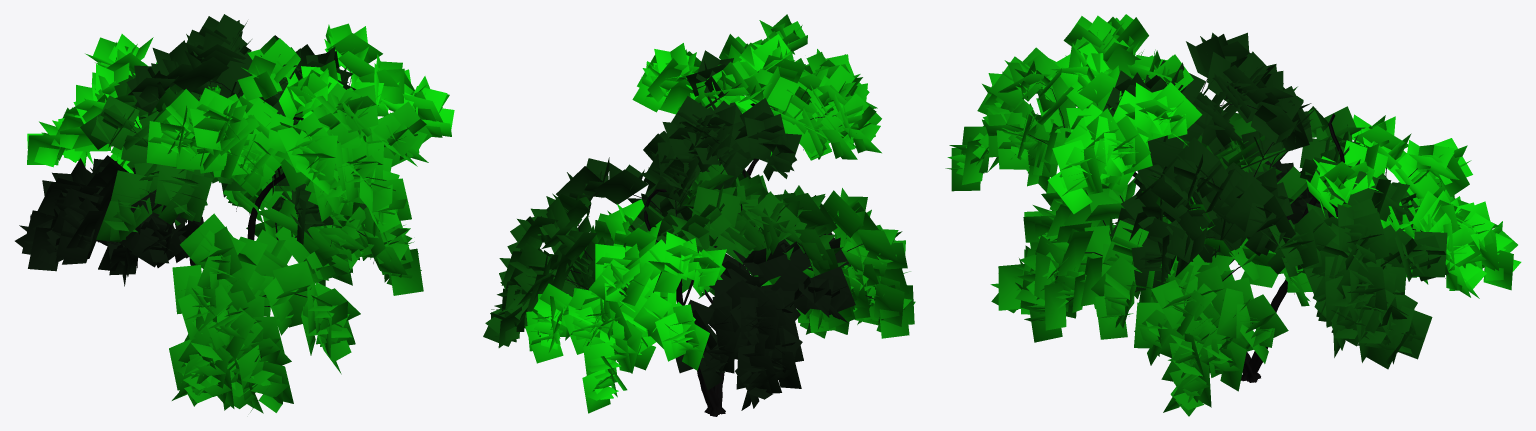
Rendered from Euro_Beech_10.fbx.
3 renders of one model, left to right at view 1: azimuth 30°, elevation 25°; view 2: azimuth 150°, elevation 25°; view 3: azimuth 270°, elevation 25°, orthographic. The views are drawn at different scales.
Visible parts, largest first — view 1: Euro_Beech_10; view 2: Euro_Beech_10; view 3: Euro_Beech_10.
Part boxes in pixels (x1=…): Euro_Beech_10: x1=15, y1=14, x2=454, y2=413; Euro_Beech_10: x1=483, y1=14, x2=915, y2=416; Euro_Beech_10: x1=945, y1=14, x2=1521, y2=416.
Bounding box in the file's own units: 1074 × 1053 × 1599.
